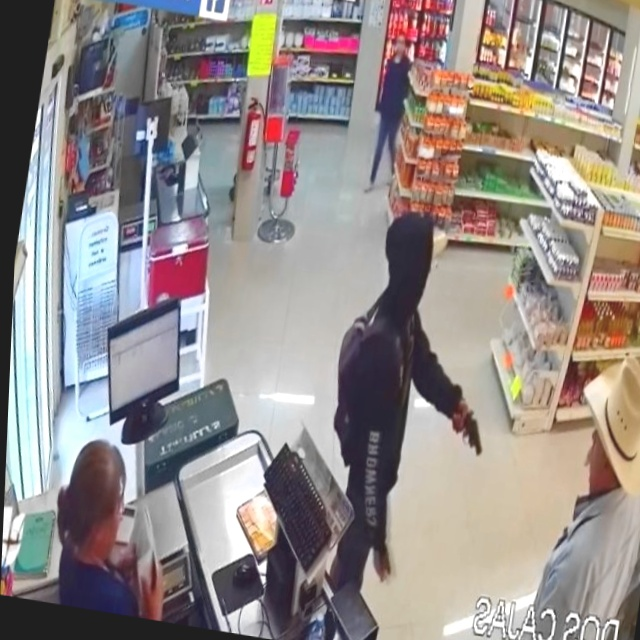gun: (449, 381, 495, 476)
